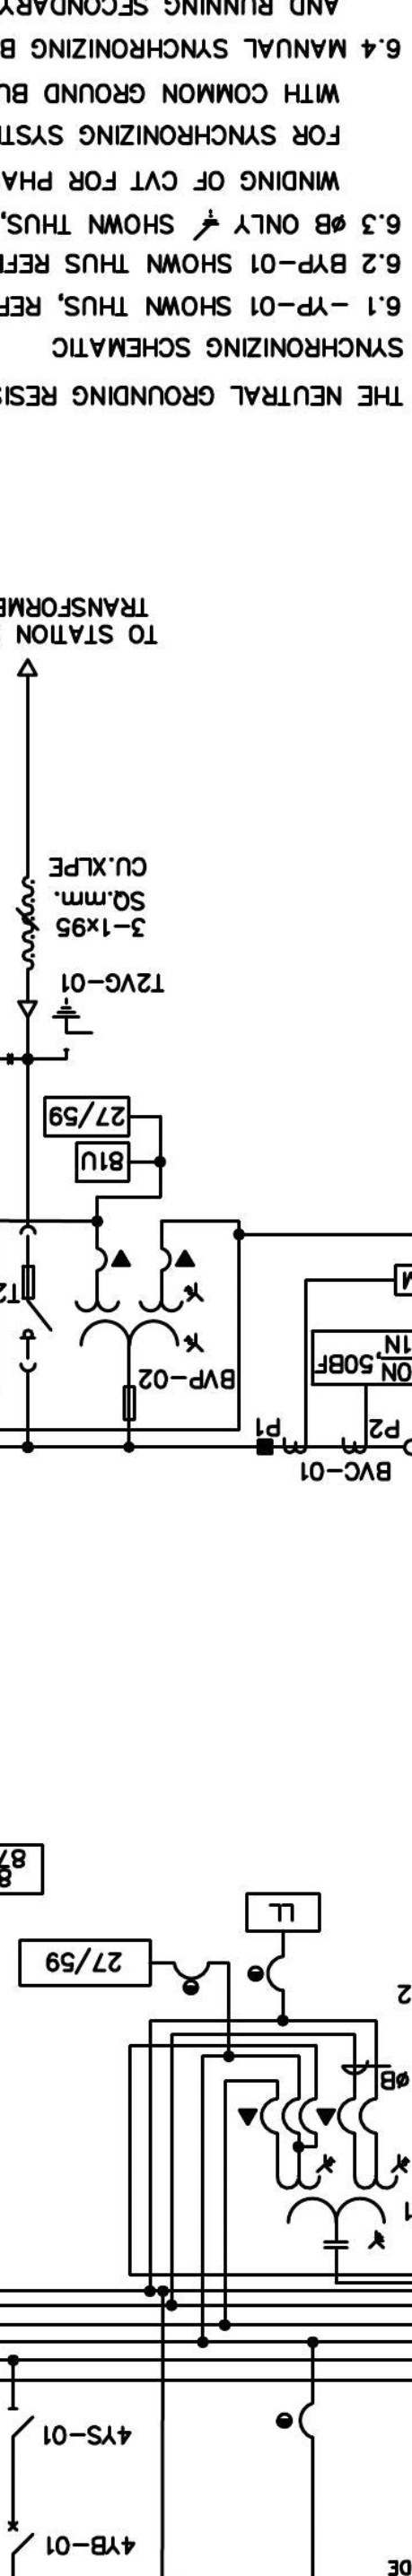115_breaker: (7, 2520, 34, 2556)
115_cvt_3p: (276, 2152, 412, 2249)
115_ds: (7, 2407, 34, 2438)
22_ds: (18, 1226, 53, 1373)
22_gs: (51, 997, 94, 1051)
22_vt_3p: (74, 1245, 205, 1423)
LL: (245, 1891, 322, 1934)
terminator_single: (16, 657, 38, 679), (16, 999, 38, 1019)
